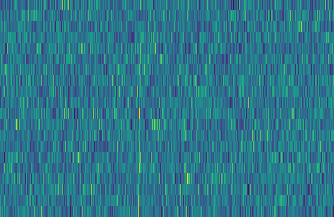signal: (133, 0, 145, 217)
